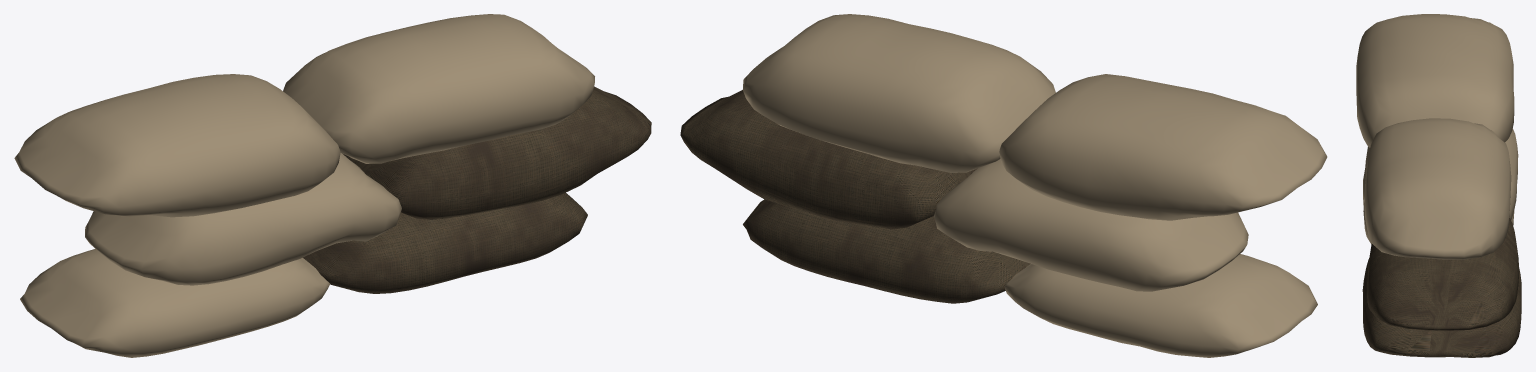
Rendered from S7U_Sandbags_3L_A.fbx.
The picture shows the model from 3 angles, left to right: view 1: azimuth 30°, elevation 25°; view 2: azimuth 150°, elevation 25°; view 3: azimuth 270°, elevation 25°; orthographic projection. The views are drawn at different scales.
Parts seen in each view (by area): view 1: S7U_Sandbags_3L_A; view 2: S7U_Sandbags_3L_A; view 3: S7U_Sandbags_3L_A.
Part boxes in pixels (box(x1,y1,x2,y2)): S7U_Sandbags_3L_A: box(14, 14, 651, 357); S7U_Sandbags_3L_A: box(680, 14, 1327, 357); S7U_Sandbags_3L_A: box(1356, 14, 1521, 357).
Size of the model in its own units: 1.55 by 0.5414 by 0.4473.
